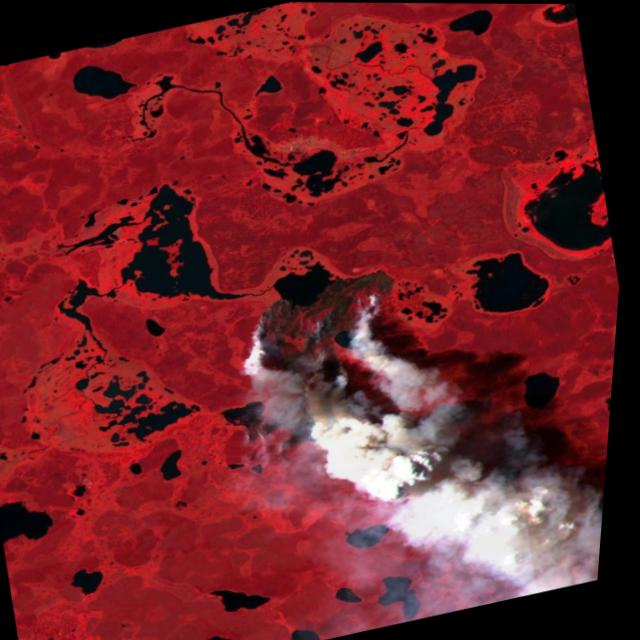fire: (223, 265, 437, 471)
